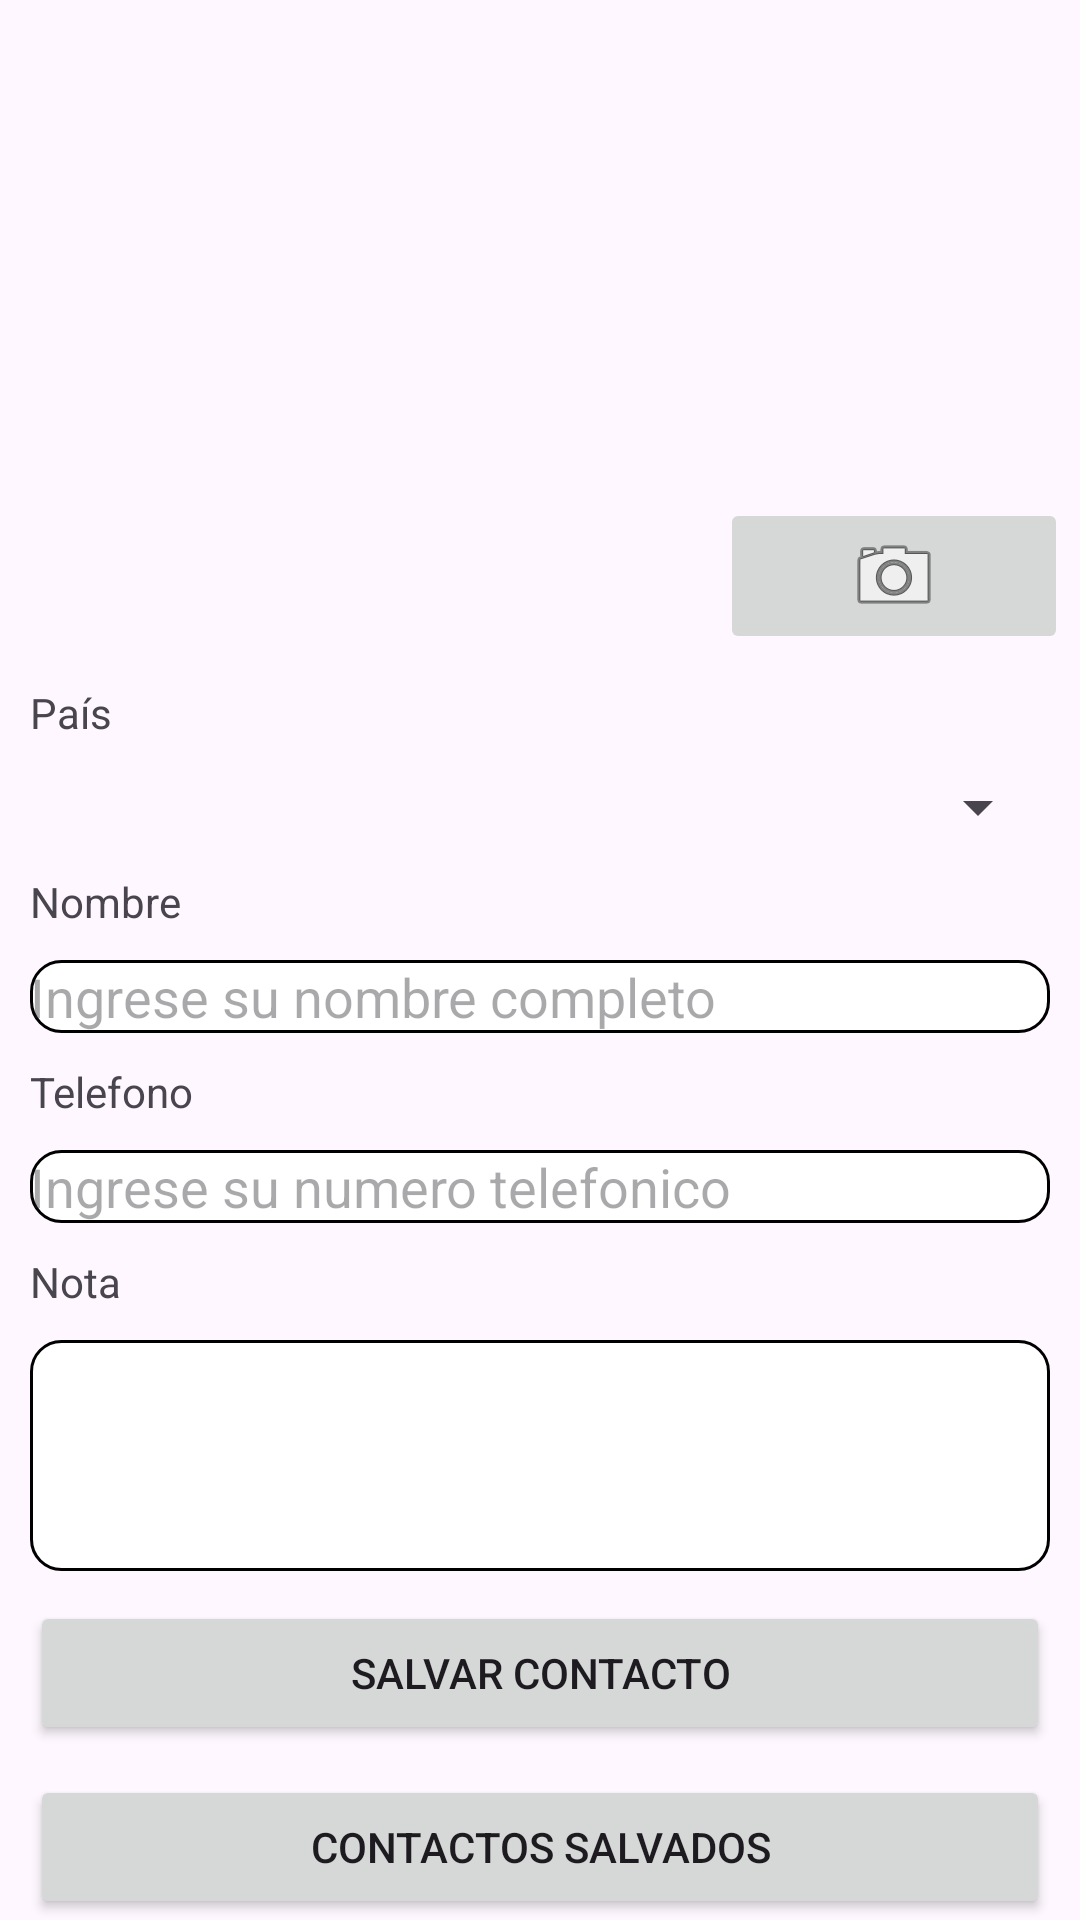

Named icons in this screenshot (1080 × 1920) and their bounding boxes, bbox=(x1, y1, x2, y2):
camera: bbox=(732, 516, 1056, 636)
